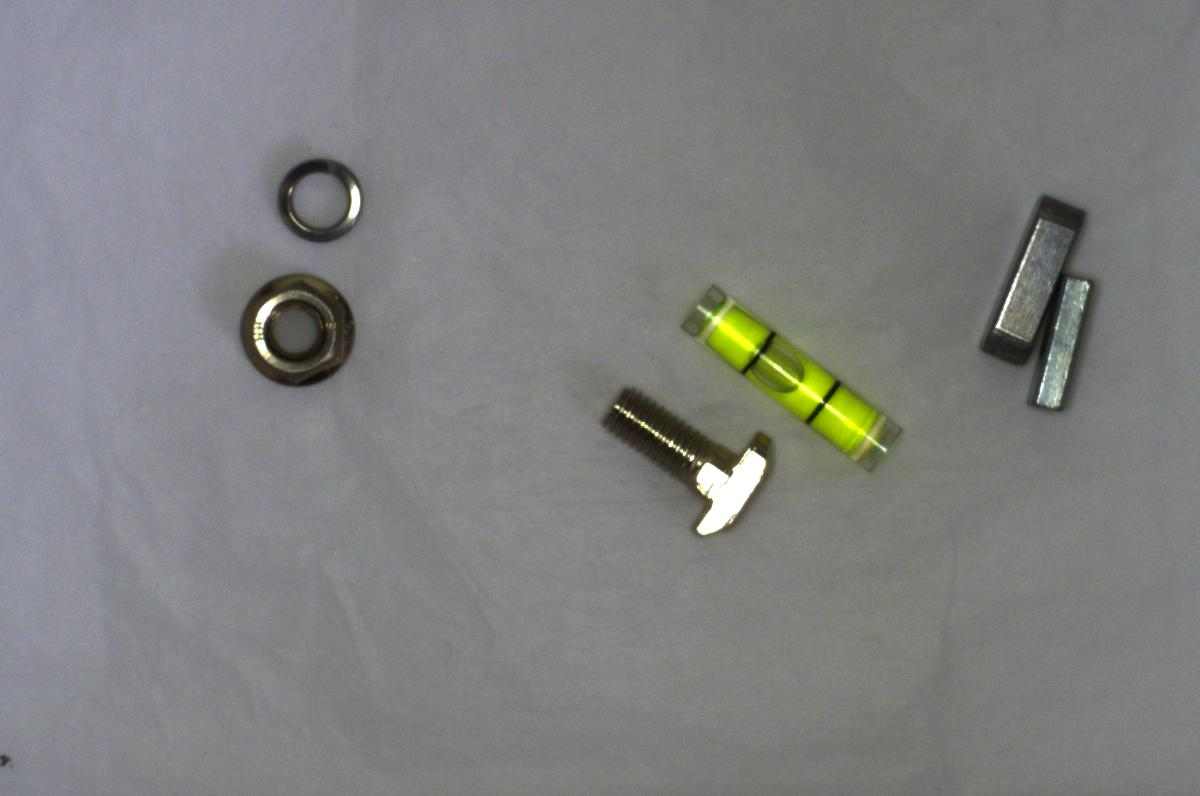Flange nut: (239, 270, 364, 393)
Horizontal bubble: (677, 280, 905, 474)
Keybar: (981, 192, 1084, 365)
Rectangular nut: (1021, 272, 1097, 414)
Spring washer: (274, 147, 366, 249)
T-shaped screw: (590, 376, 779, 543)
